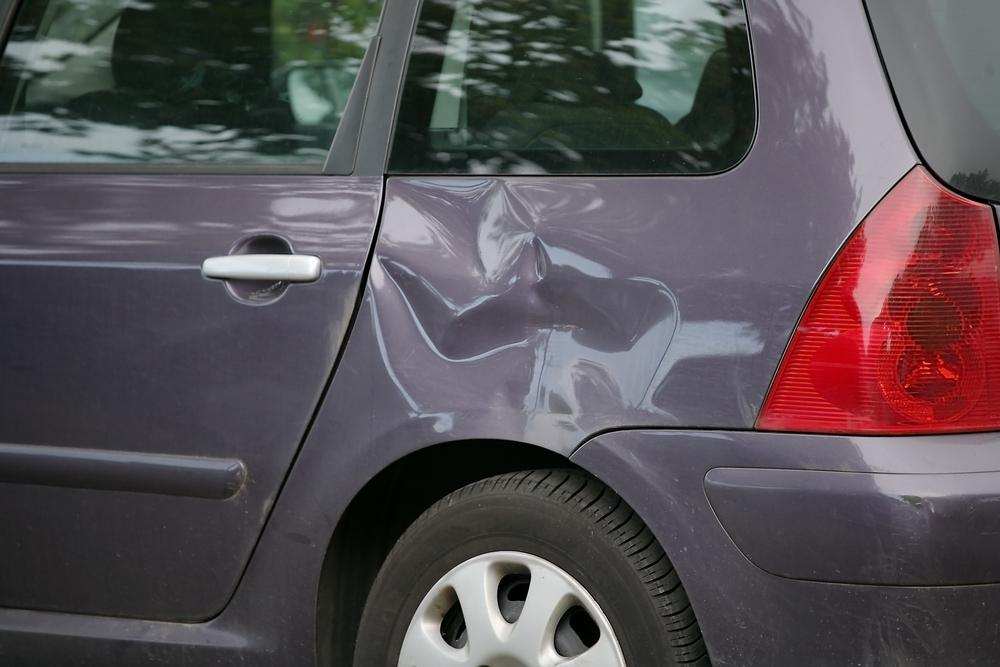dent: (373, 178, 676, 456)
